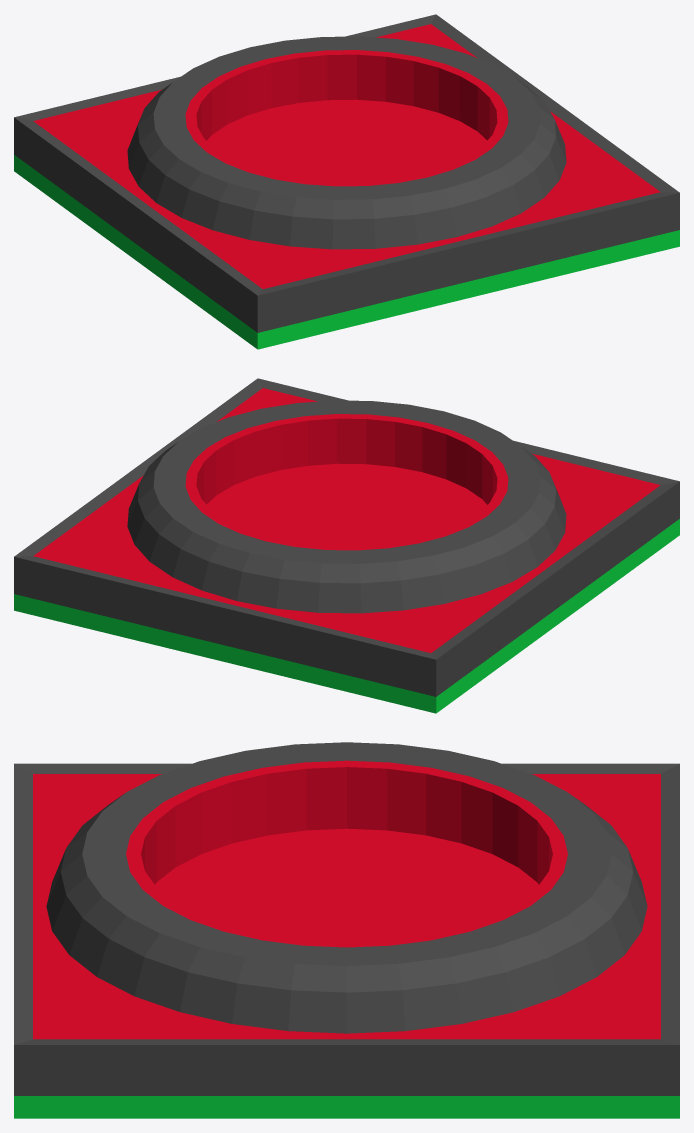
File: ButtonHolderModel.fbx
The picture shows the model from 3 angles, top to bottom: view 1: azimuth 30°, elevation 25°; view 2: azimuth 150°, elevation 25°; view 3: azimuth 270°, elevation 25°; orthographic projection. The views are drawn at different scales.
Visible parts, largest first — view 1: ButtonHolder; view 2: ButtonHolder; view 3: ButtonHolder.
Part boxes in pixels (<box>): ButtonHolder: <box>14,14,679,349</box>; ButtonHolder: <box>14,378,679,713</box>; ButtonHolder: <box>14,742,679,1118</box>.
Size of the model in its own units: 266 by 54.6 by 266.
